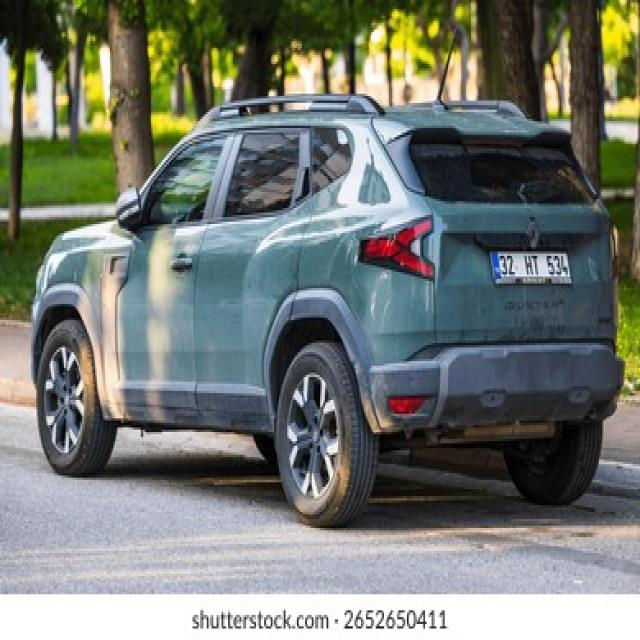renault: (521, 216, 546, 250)
